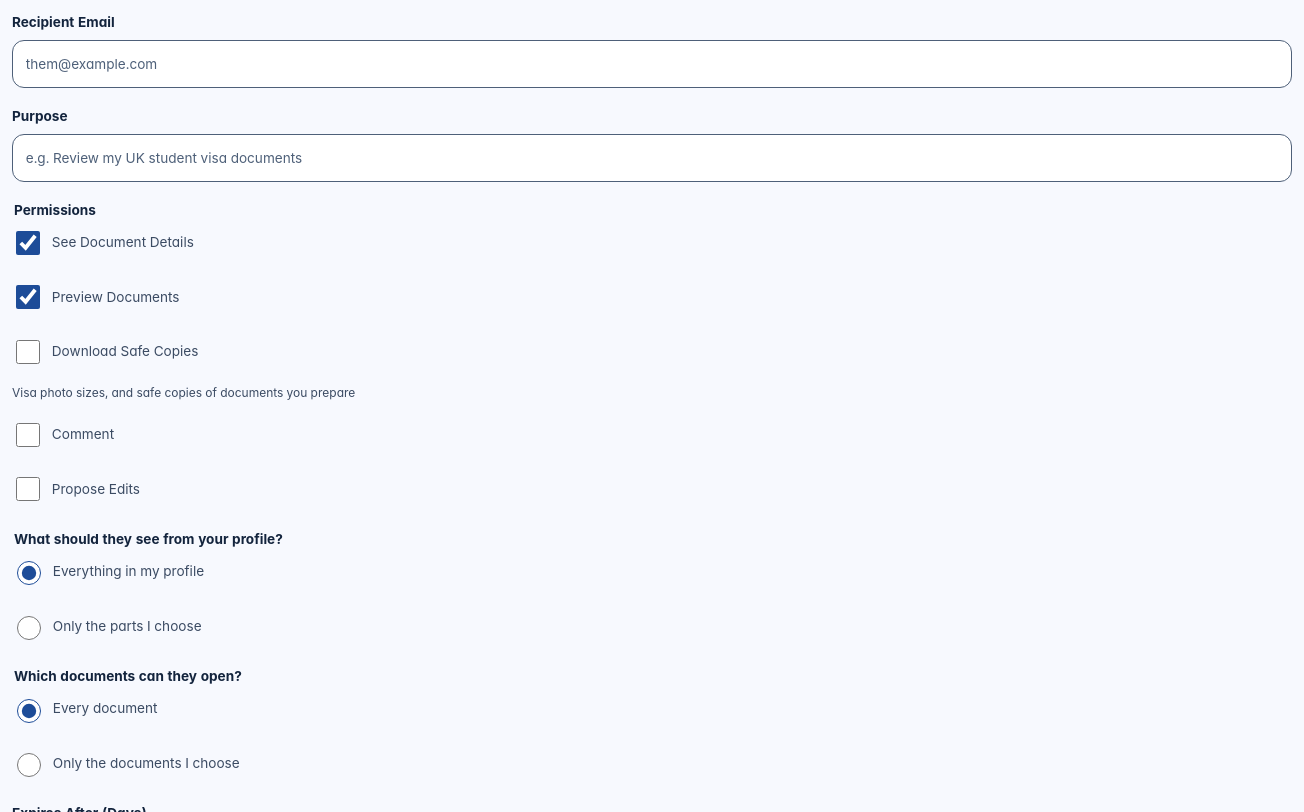
Test: categories that hold saved details › offers no extra categories unless some hold details
Click the radio button labelled "Only the parts I choose". click: (29, 628)
box: [17, 616, 41, 640]
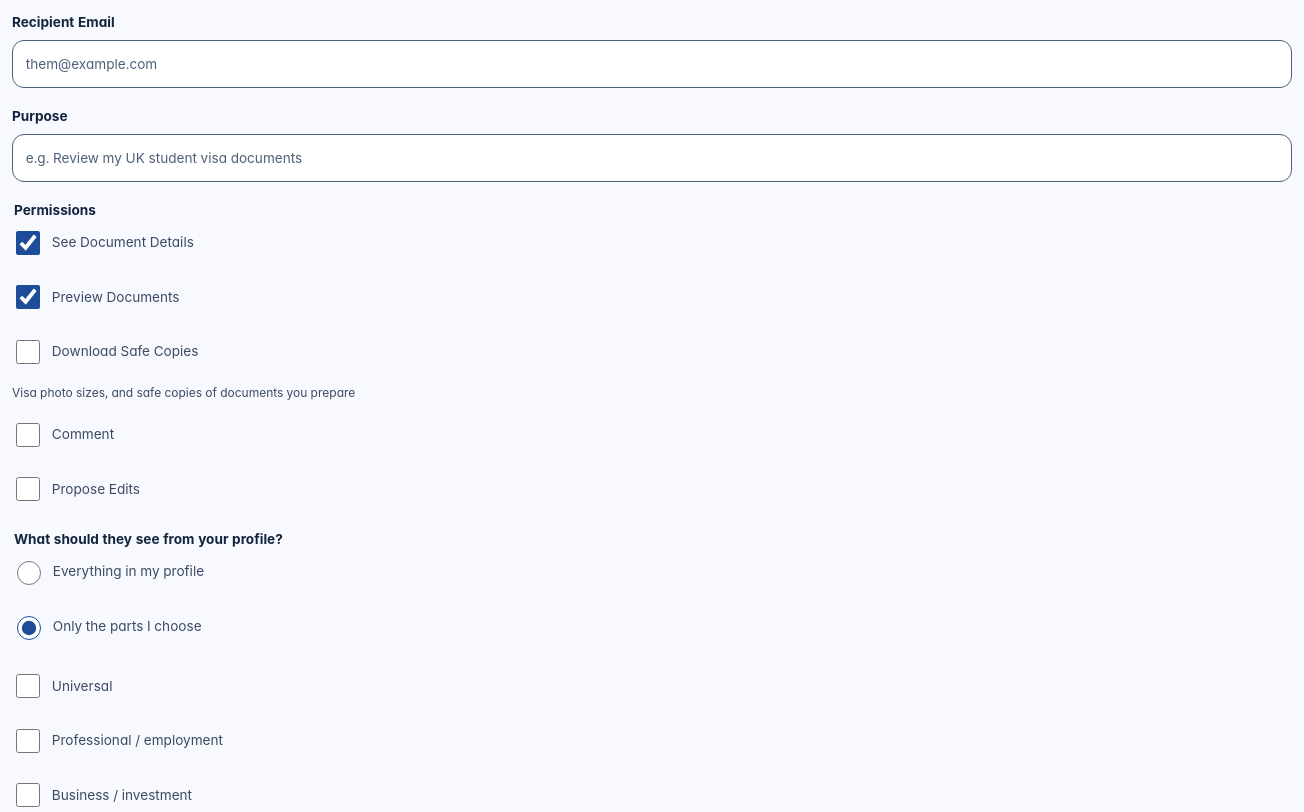
Expected: the number of checkboxes named "category" is 5
